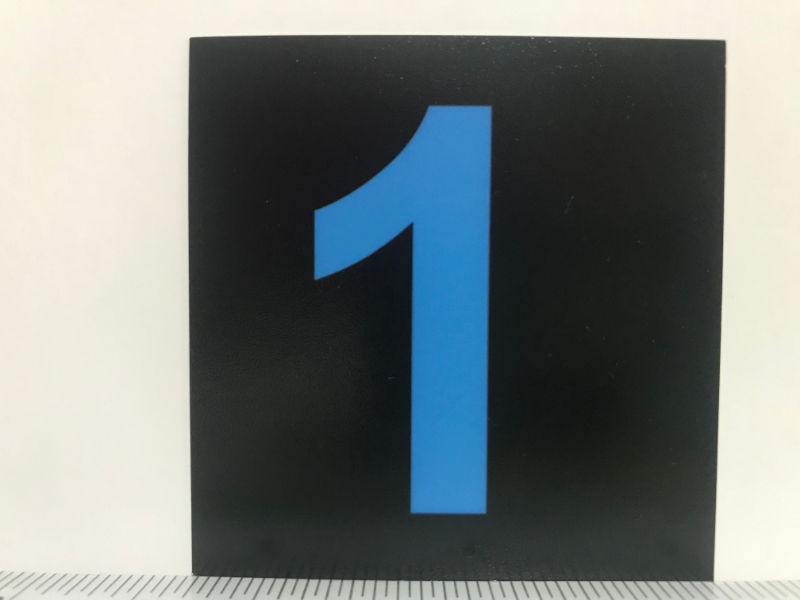One-6: (195, 42, 710, 574)
